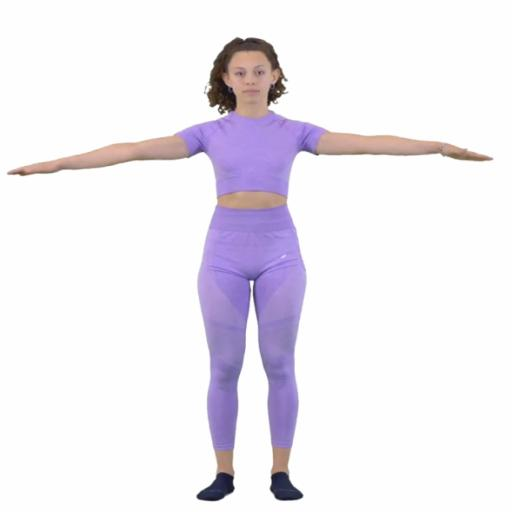Normal_Dips: (1, 22, 508, 512)
